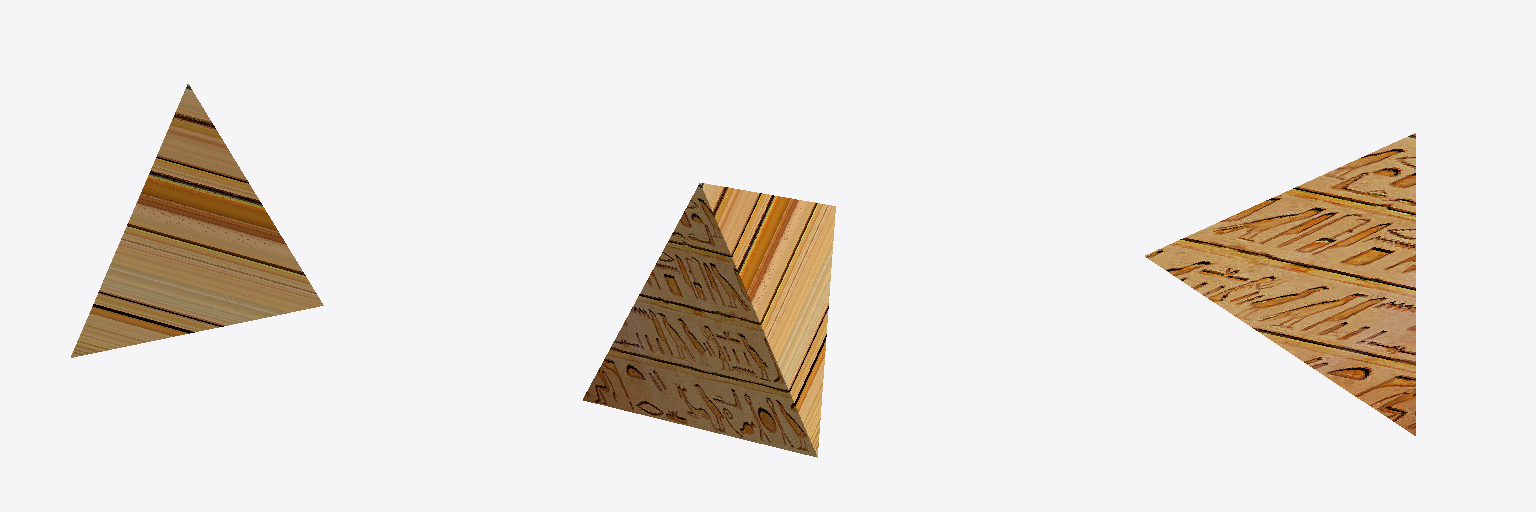
The picture shows the model from 3 angles: view 1: azimuth 30°, elevation 25°; view 2: azimuth 150°, elevation 25°; view 3: azimuth 270°, elevation 25°; orthographic projection.
Visible parts, largest first — view 1: pyramide; view 2: pyramide; view 3: pyramide.
Boxes of the visible parts, <box> form: pyramide: <box>71,84,323,357</box>; pyramide: <box>583,183,835,457</box>; pyramide: <box>1145,133,1415,435</box>.
Bounding box in the file's own units: 1 × 1 × 1.
1 materials, 1 textured.